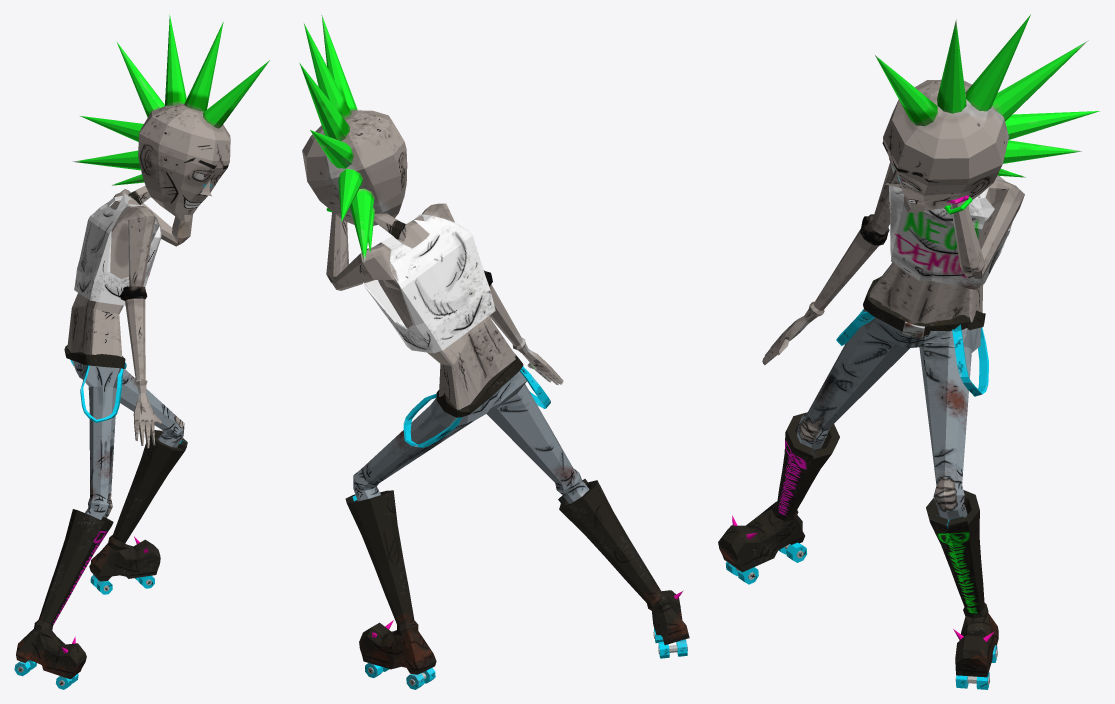
Rendered from punkAnimation_000017.obj.
3 renders of one model, left to right at view 1: azimuth 30°, elevation 25°; view 2: azimuth 150°, elevation 25°; view 3: azimuth 270°, elevation 25°, orthographic. The views are drawn at different scales.
Parts seen in each view (by area): view 1: Cube.004_Cube.003; view 2: Cube.004_Cube.003; view 3: Cube.004_Cube.003.
Boxes of the visible parts, box(x1,y1,x2,y2) form: Cube.004_Cube.003: box(14, 14, 269, 689); Cube.004_Cube.003: box(299, 15, 689, 689); Cube.004_Cube.003: box(718, 14, 1099, 689).
Size of the model in its own units: 3.65 by 6.63 by 3.22.
